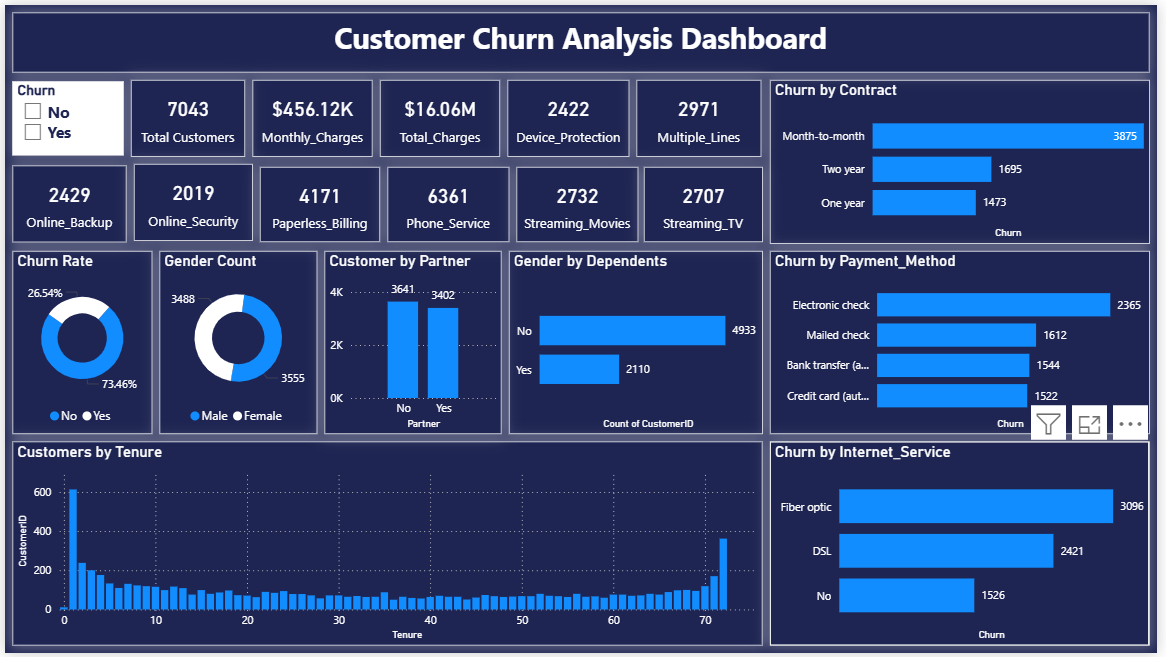

What the dashboard file says about the page in this screenshot:
{"tool":"powerbi","page":{"name":"Page 1","canvas":[1280,720],"ordinal":0},"visuals":[{"type":"donutChart","title":"Churn Rate","fields":{"Category":["Telco_Customer.Churn"],"Y":["CountNonNull(Telco_Customer.CustomerID)"]},"box":[8.3,273.3,155,203.3],"z":0},{"type":"donutChart","title":"Gender Count","fields":{"Category":["Telco_Customer.Gender"],"Y":["CountNonNull(Telco_Customer.Gender)"]},"box":[171.7,273.3,175,203.3],"z":1000},{"type":"barChart","title":"Gender by Dependents","fields":{"Category":["Telco_Customer.Dependents"],"Y":["CountNonNull(Telco_Customer.CustomerID)"]},"box":[560,273.3,281.7,203.3],"z":2000},{"type":"columnChart","title":"Customers by Tenure","fields":{"Category":["Telco_Customer.Tenure"],"Y":["CountNonNull(Telco_Customer.CustomerID)"]},"box":[8.3,485,833.3,226.7],"z":3000},{"type":"clusteredBarChart","title":"Churn by Contract","fields":{"Category":["Telco_Customer.Contract"],"Y":["CountNonNull(Telco_Customer.Churn)"]},"box":[850,83.3,421.7,181.7],"z":4000},{"type":"barChart","title":"Churn by Payment_Method","fields":{"Category":["Telco_Customer.Payment_Method"],"Y":["CountNonNull(Telco_Customer.Churn)"]},"box":[850,273.3,421.7,203.3],"z":5000},{"type":"clusteredBarChart","title":"Churn by Internet_Service","fields":{"Category":["Telco_Customer.Internet_Service"],"Y":["CountNonNull(Telco_Customer.Churn)"]},"box":[850,485,421.7,226.7],"z":6000},{"type":"columnChart","title":"Customer by Partner","fields":{"Category":["Telco_Customer.Partner"],"Y":["CountNonNull(Telco_Customer.CustomerID)"]},"box":[355,273.3,196.7,203.3],"z":7000},{"type":"slicer","title":"Churn","fields":{"Values":["Telco_Customer.Churn"]},"box":[8.3,85,123.3,81.7],"z":8000},{"type":"textbox","box":[8.3,8.3,1263.3,66.7],"z":9000},{"type":"card","fields":{"Values":["Sum(Telco_Customer.Total_Charges)"]},"box":[416.7,83.3,133.3,85],"z":10000},{"type":"card","fields":{"Values":["Sum(Telco_Customer.Monthly_Charges)"]},"box":[275,83.3,133.3,85],"z":11000},{"type":"card","fields":{"Values":["CountNonNull(Telco_Customer.CustomerID)"]},"box":[140,83.3,126.7,85],"z":12000},{"type":"card","fields":{"Values":["CountNonNull(Telco_Customer.Device_Protection)"]},"box":[558.3,83.3,135,85],"z":13000},{"type":"card","fields":{"Values":["CountNonNull(Telco_Customer.Multiple_Lines)"]},"box":[701.7,83.3,138.3,85],"z":14000},{"type":"card","fields":{"Values":["CountNonNull(Telco_Customer.Online_Backup)"]},"box":[8.3,178.3,126.7,85],"z":15000},{"type":"card","fields":{"Values":["CountNonNull(Telco_Customer.Online_Security)"]},"box":[143.3,176.7,131.7,85],"z":16000},{"type":"card","fields":{"Values":["CountNonNull(Telco_Customer.Paperless_Billing)"]},"box":[283.3,180,133.3,83.3],"z":17000},{"type":"card","fields":{"Values":["CountNonNull(Telco_Customer.Phone_Service)"]},"box":[425,180,135,83.3],"z":18000},{"type":"card","fields":{"Values":["CountNonNull(Telco_Customer.Streaming_Movies)"]},"box":[568.3,180,135,83.3],"z":19000},{"type":"card","fields":{"Values":["CountNonNull(Telco_Customer.Streaming_TV)"]},"box":[710,180,131.7,83.3],"z":20000}]}

Visuals, with their boxes in screenshot pixels (x1, y1, x2, y2), scaled from the page's 1280x720 canvas onto the 1166x657 screenshot:
"Churn Rate" donutChart: select_region(8, 249, 149, 435)
"Gender Count" donutChart: select_region(156, 249, 316, 435)
"Gender by Dependents" barChart: select_region(510, 249, 767, 435)
"Customers by Tenure" columnChart: select_region(8, 443, 767, 649)
"Churn by Contract" clusteredBarChart: select_region(774, 76, 1158, 242)
"Churn by Payment_Method" barChart: select_region(774, 249, 1158, 435)
"Churn by Internet_Service" clusteredBarChart: select_region(774, 443, 1158, 649)
"Customer by Partner" columnChart: select_region(323, 249, 503, 435)
"Churn" slicer: select_region(8, 78, 120, 152)
textbox: select_region(8, 8, 1158, 68)
card - Sum(Telco_Customer.Total_Charges): select_region(380, 76, 501, 154)
card - Sum(Telco_Customer.Monthly_Charges): select_region(251, 76, 372, 154)
card - CountNonNull(Telco_Customer.CustomerID): select_region(128, 76, 243, 154)
card - CountNonNull(Telco_Customer.Device_Protection): select_region(509, 76, 632, 154)
card - CountNonNull(Telco_Customer.Multiple_Lines): select_region(639, 76, 765, 154)
card - CountNonNull(Telco_Customer.Online_Backup): select_region(8, 163, 123, 240)
card - CountNonNull(Telco_Customer.Online_Security): select_region(131, 161, 251, 239)
card - CountNonNull(Telco_Customer.Paperless_Billing): select_region(258, 164, 379, 240)
card - CountNonNull(Telco_Customer.Phone_Service): select_region(387, 164, 510, 240)
card - CountNonNull(Telco_Customer.Streaming_Movies): select_region(518, 164, 641, 240)
card - CountNonNull(Telco_Customer.Streaming_TV): select_region(647, 164, 767, 240)
